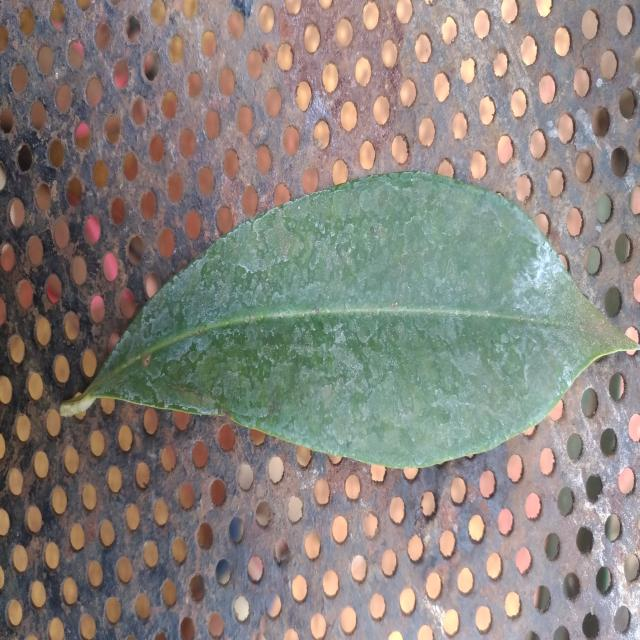nerale: (61, 171, 634, 466)
